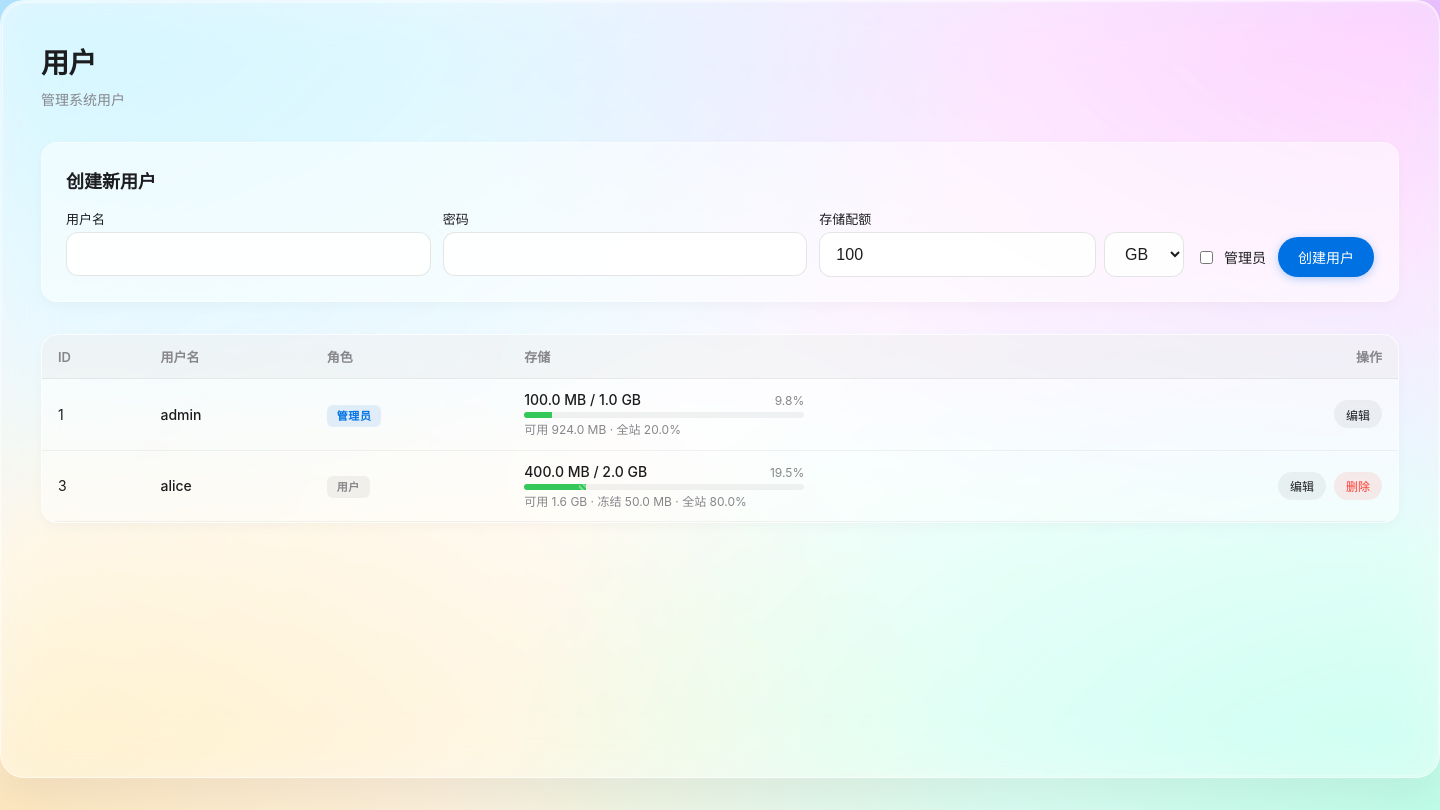
Test: UsersPage › shows create form error when creating a user fails
Check: the heading "创建新用户" is shown, box x1=66 y1=171 x2=156 y2=192
Check: the text "alice" is shown, box x1=144 y1=450 x2=311 y2=522
Type "dup-user" into the field labelled "用户名" at (248, 254), box x1=66 y1=232 x2=431 y2=276
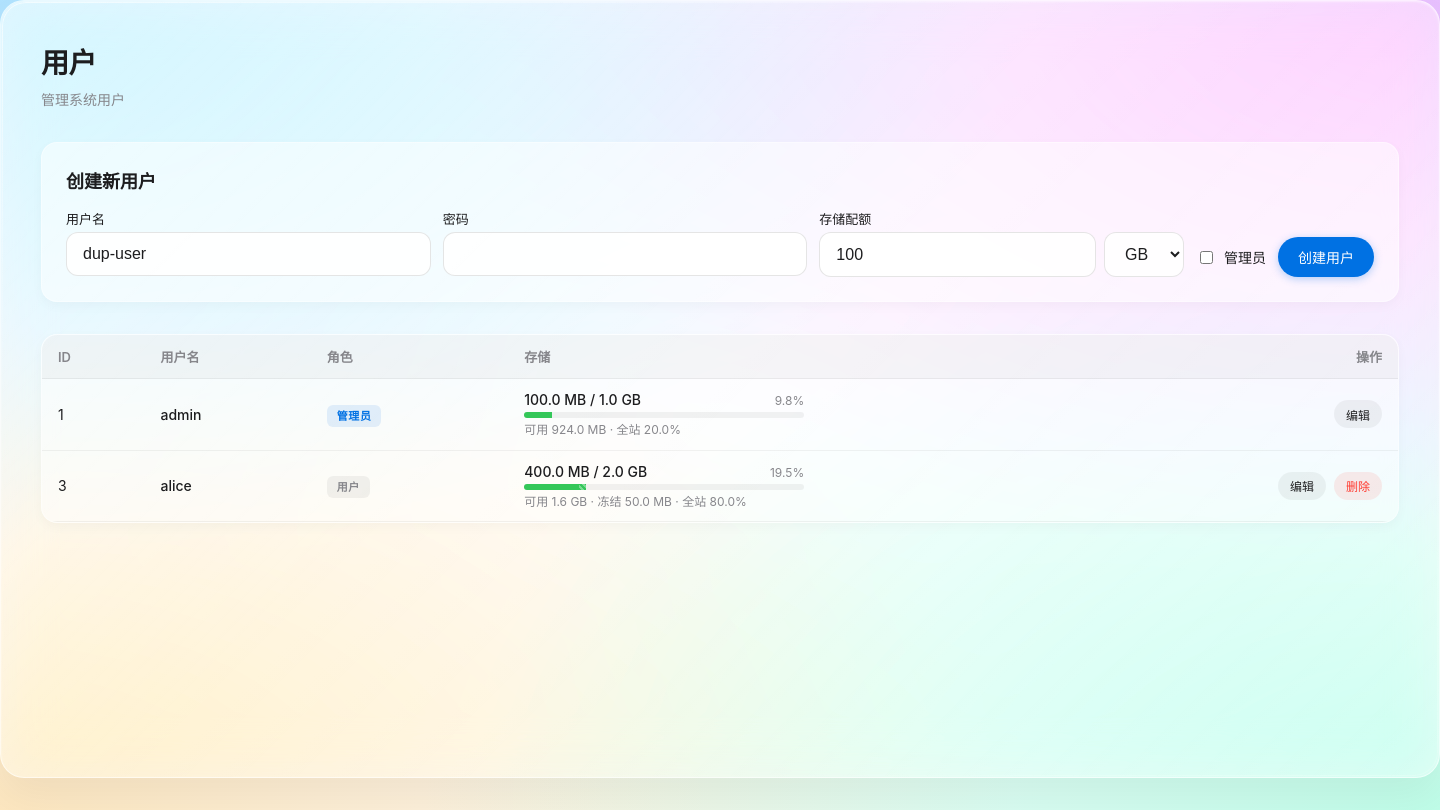
Type "pass123456" into the password field labelled "密码" at (625, 254), box x1=443 y1=232 x2=807 y2=276
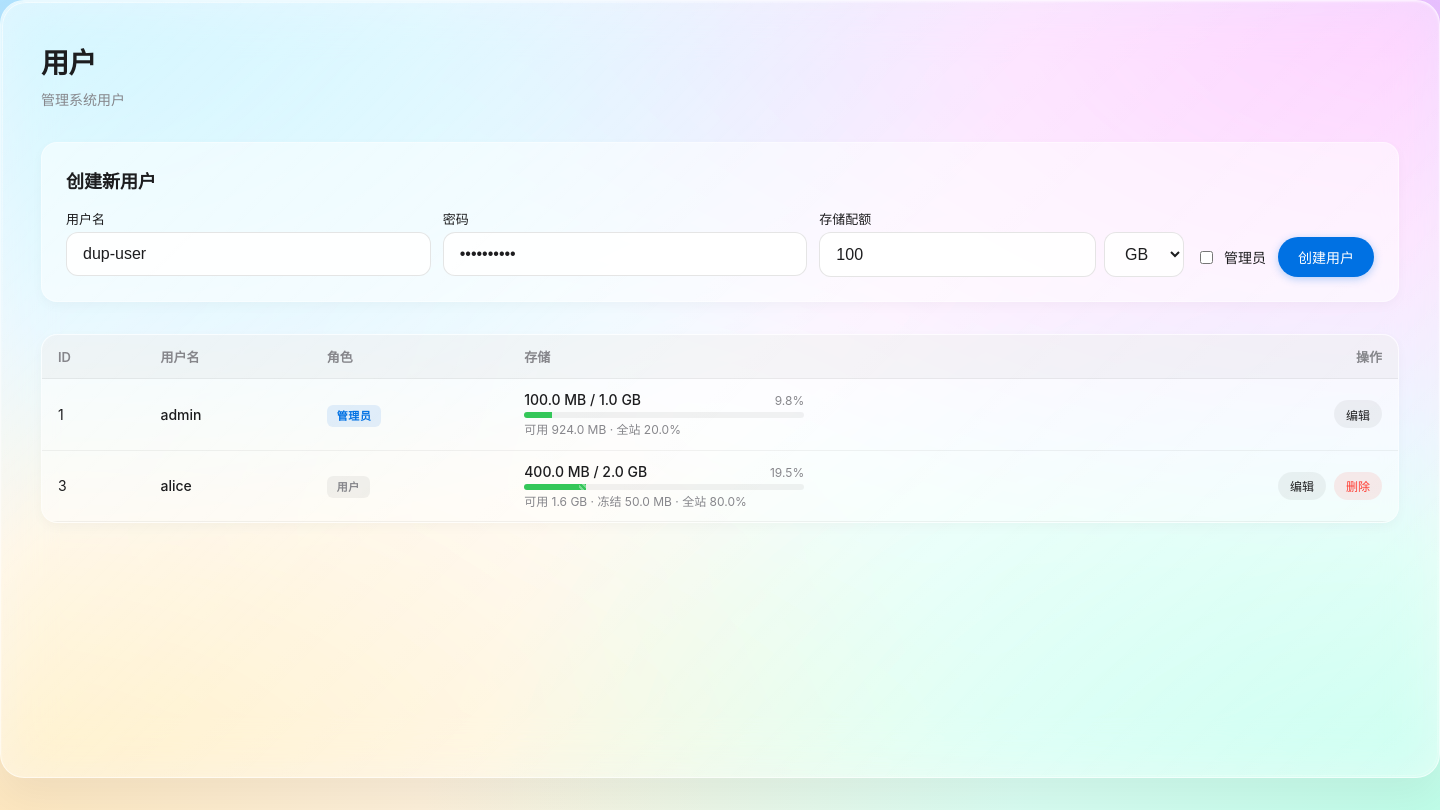
Submit the form with class "create-user-form", box x1=66 y1=209 x2=1374 y2=277
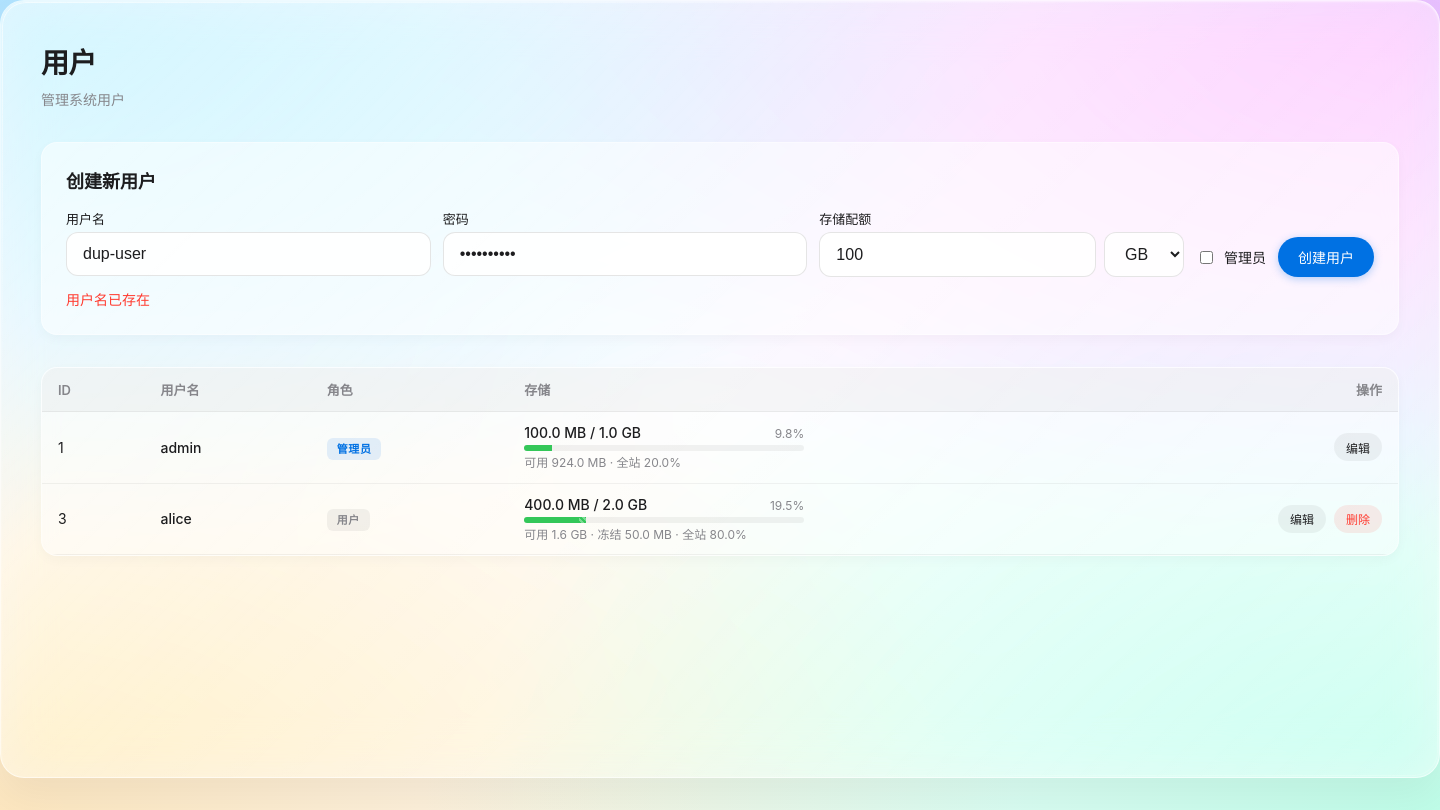
Check: the text "用户名已存在" is shown, box x1=66 y1=291 x2=150 y2=308
